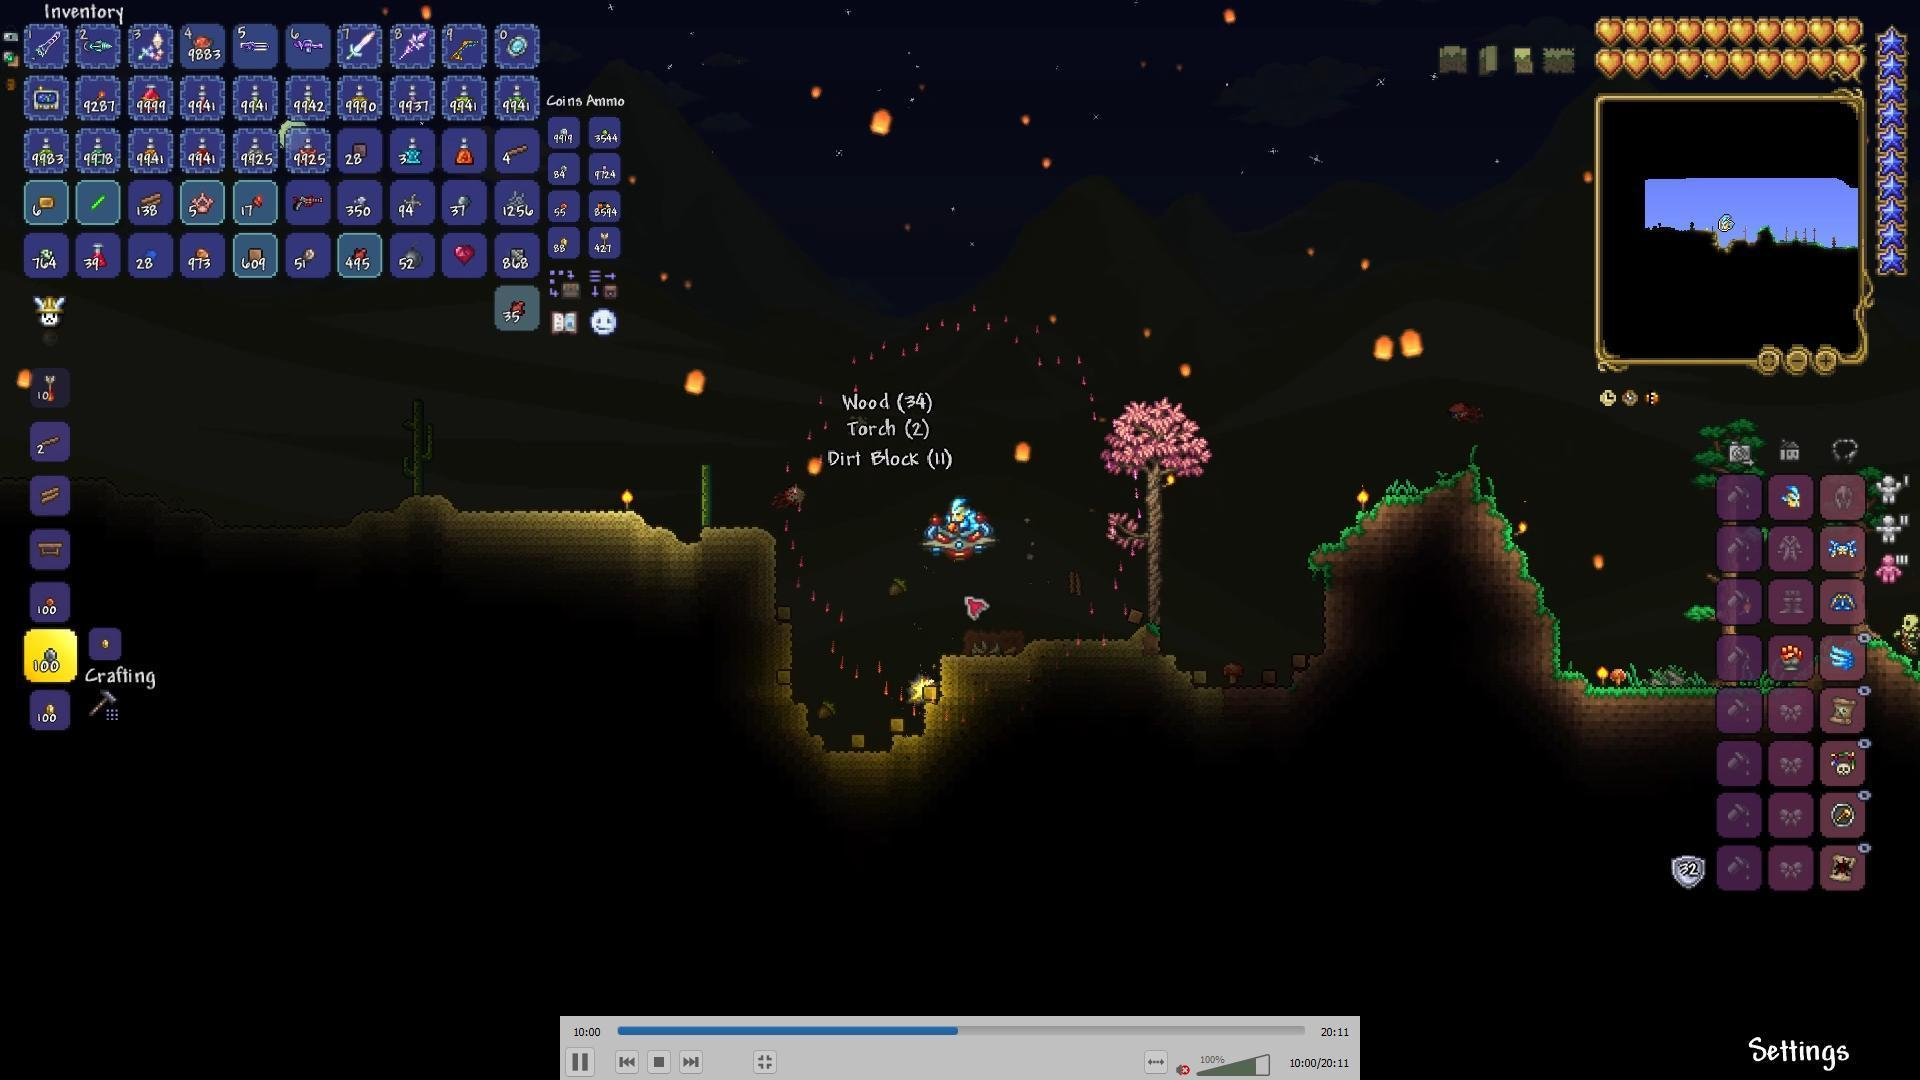eye: (765, 476, 815, 517), (1444, 397, 1486, 426)
mirror: (505, 32, 531, 61)
star: (910, 669, 936, 707)
